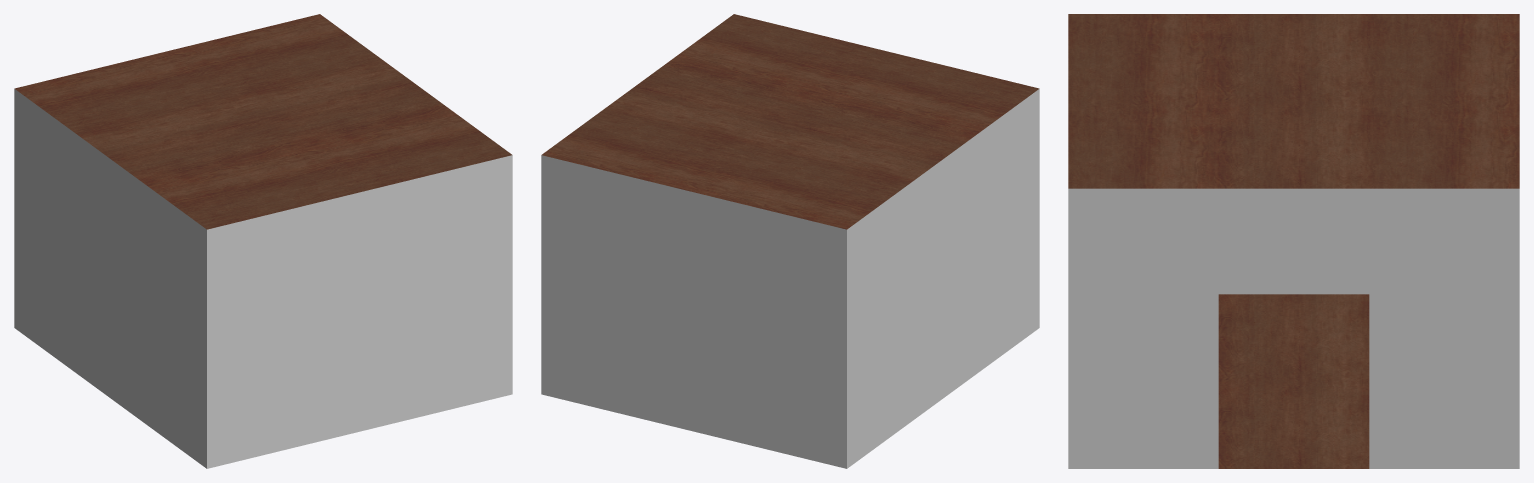
Rendered from BarUtilityRoom.fbx.
3 renders of one model, left to right at view 1: azimuth 30°, elevation 25°; view 2: azimuth 150°, elevation 25°; view 3: azimuth 270°, elevation 25°, orthographic. The views are drawn at different scales.
Visible parts, largest first — view 1: UtilityRoom; view 2: UtilityRoom; view 3: UtilityRoom.
Boxes of the visible parts, x1=… form: UtilityRoom: x1=14, y1=14, x2=512, y2=468; UtilityRoom: x1=541, y1=14, x2=1039, y2=468; UtilityRoom: x1=1068, y1=14, x2=1519, y2=468.
Bounding box in the file's own units: 4 × 2.99 × 4.37.
